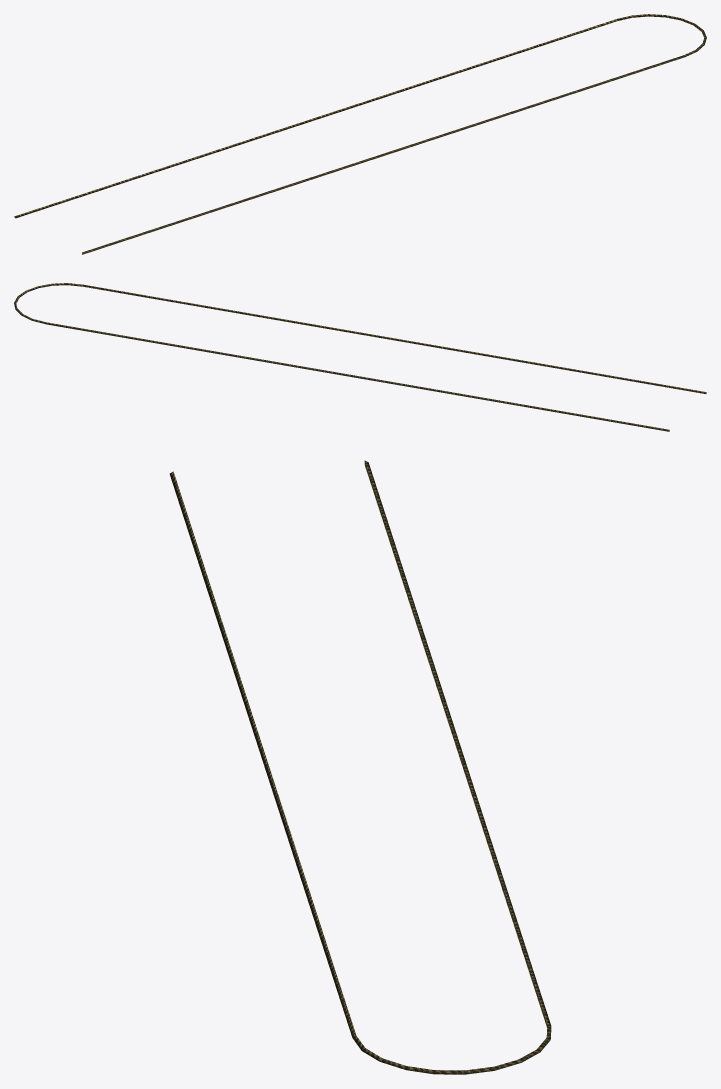
The model's file is SWORDLIGHT20_MAINCAVROPE01CONV03.fbx.
The picture shows the model from 3 angles, top to bottom: view 1: azimuth 30°, elevation 25°; view 2: azimuth 150°, elevation 25°; view 3: azimuth 270°, elevation 25°; orthographic projection. The views are drawn at different scales.
Visible parts, largest first — view 1: SWORDLIGHT20_MAINCAVROPE01CONV03; view 2: SWORDLIGHT20_MAINCAVROPE01CONV03; view 3: SWORDLIGHT20_MAINCAVROPE01CONV03.
Boxes of the visible parts, <box> form: SWORDLIGHT20_MAINCAVROPE01CONV03: <box>14,14,706,254</box>; SWORDLIGHT20_MAINCAVROPE01CONV03: <box>14,283,706,431</box>; SWORDLIGHT20_MAINCAVROPE01CONV03: <box>169,460,551,1074</box>.
Bounding box in the file's own units: 193462 × 633 × 51024.
1 material, 1 textured.
